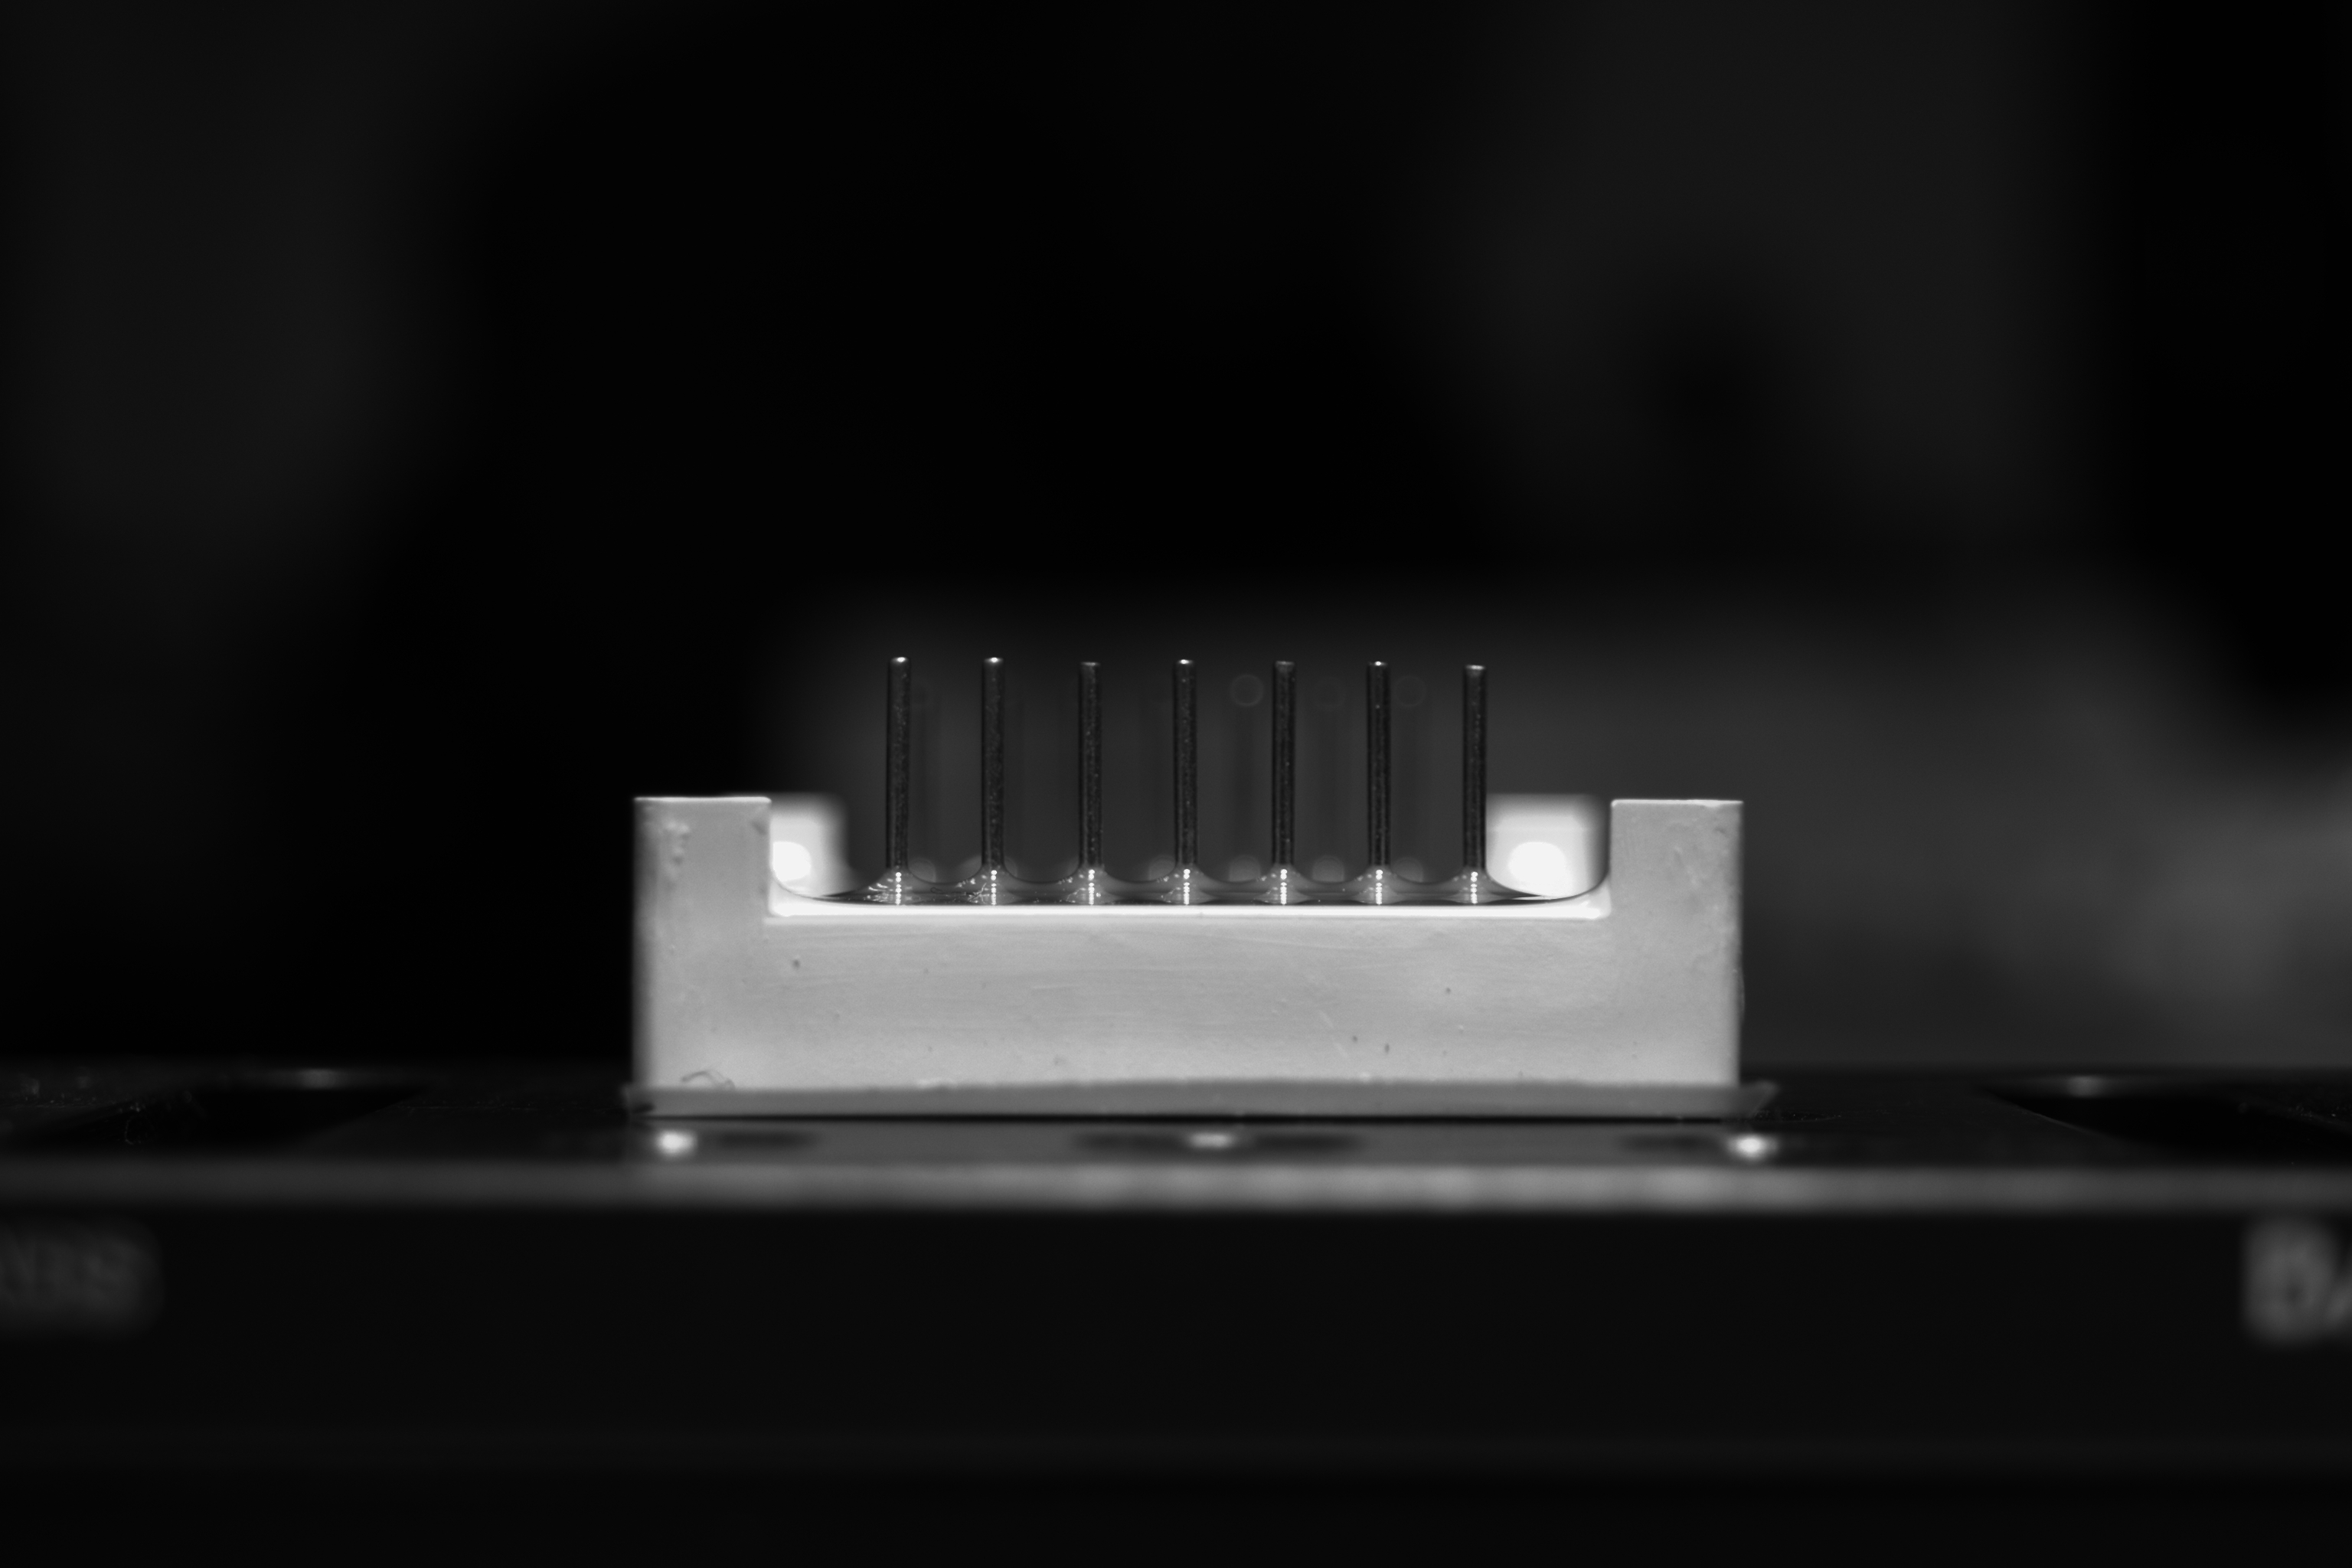glue: (663, 822, 693, 889), (754, 805, 772, 836)
